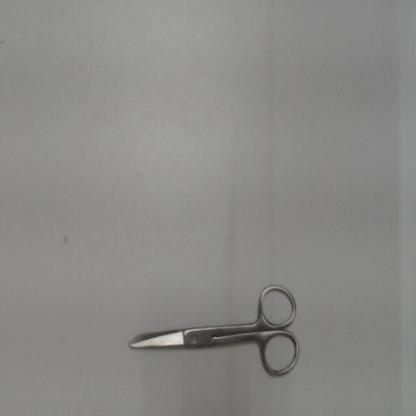Dressing Scissors: (116, 271, 308, 387)
